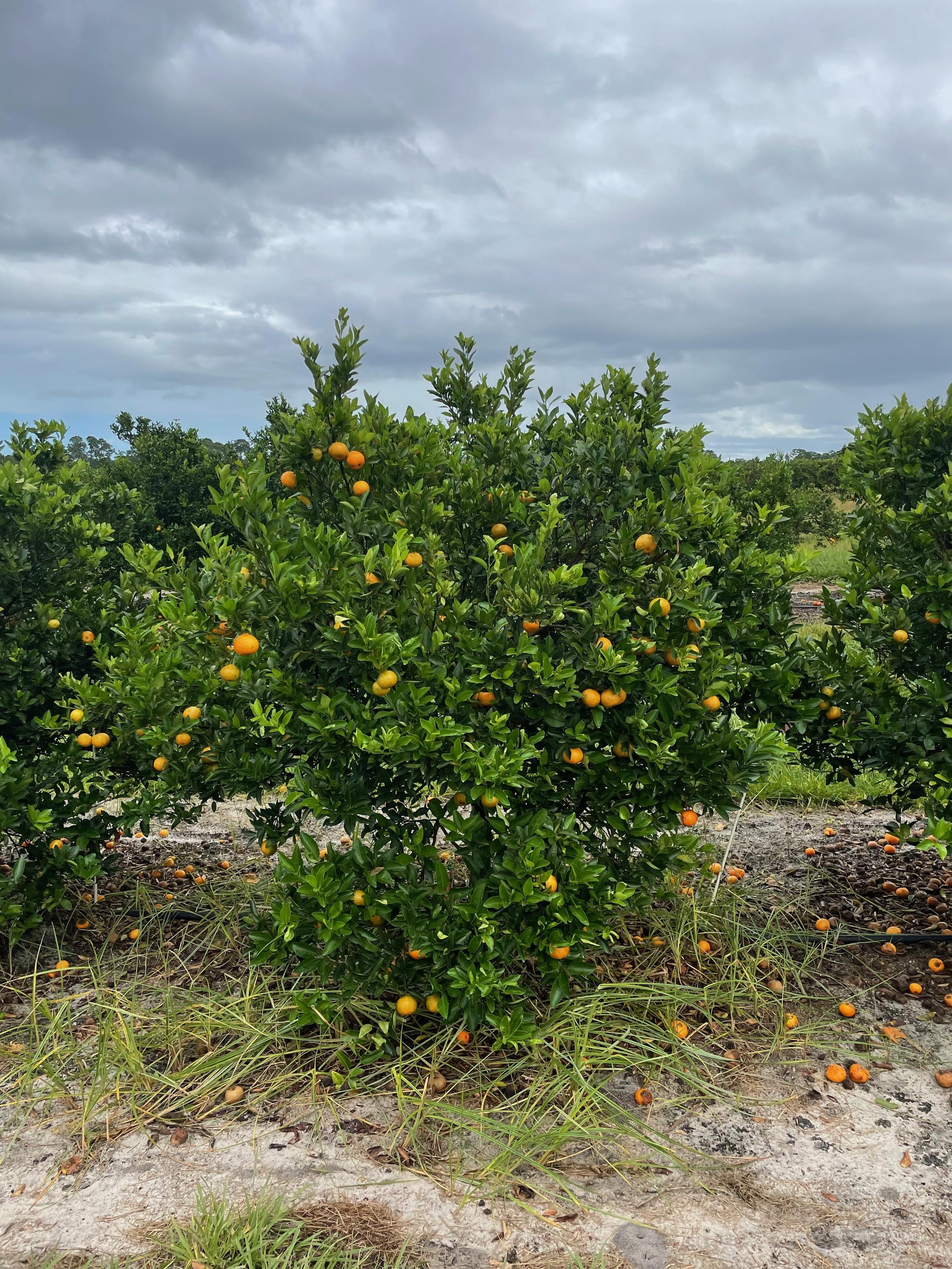fruit_on_ground: (205, 618, 236, 647), (233, 631, 261, 657), (633, 531, 660, 556), (600, 684, 628, 708), (481, 485, 511, 507), (467, 686, 492, 712), (698, 690, 724, 714), (560, 743, 586, 767), (611, 736, 636, 760), (375, 667, 400, 691), (394, 993, 419, 1017), (217, 661, 242, 685), (646, 595, 672, 618), (547, 938, 571, 961), (591, 634, 615, 657), (198, 743, 221, 766), (369, 677, 393, 699), (423, 991, 445, 1015), (328, 441, 352, 463), (476, 687, 500, 709), (513, 488, 538, 509), (537, 872, 560, 894), (663, 643, 685, 666), (922, 606, 946, 627), (362, 567, 385, 588), (344, 449, 367, 470), (680, 641, 702, 662), (637, 636, 659, 657), (180, 704, 203, 724), (684, 614, 707, 634), (278, 468, 299, 489), (581, 687, 602, 708), (90, 729, 111, 750), (520, 614, 542, 634), (403, 549, 425, 569), (678, 808, 700, 828), (151, 753, 171, 774), (258, 837, 278, 858), (494, 540, 516, 559), (350, 478, 372, 497), (233, 565, 253, 585), (818, 683, 838, 703), (452, 788, 472, 808), (479, 790, 500, 809), (489, 520, 510, 539), (79, 627, 99, 646), (174, 729, 194, 748), (350, 888, 368, 908), (67, 707, 87, 725), (824, 704, 844, 722), (75, 731, 95, 749), (306, 444, 324, 463), (47, 836, 65, 854), (891, 628, 910, 645), (46, 615, 63, 633), (814, 696, 832, 712), (368, 912, 385, 928)
fruit_on_tree: (666, 1017, 691, 1041), (221, 1083, 247, 1105), (425, 1071, 449, 1094), (632, 1085, 656, 1108), (848, 1062, 870, 1084), (169, 1125, 190, 1147), (825, 1062, 847, 1083), (933, 1068, 952, 1089), (406, 943, 426, 961), (927, 955, 946, 973), (838, 999, 857, 1017), (455, 1027, 473, 1045), (782, 1011, 800, 1029), (723, 1046, 741, 1063), (766, 976, 784, 993), (649, 933, 667, 949), (879, 940, 898, 955), (696, 938, 712, 955), (814, 916, 831, 932), (337, 833, 354, 848), (882, 830, 899, 844), (729, 866, 746, 880), (907, 980, 923, 994), (75, 916, 90, 930), (708, 860, 722, 875), (895, 884, 910, 898), (866, 919, 882, 932), (886, 923, 903, 935), (317, 846, 331, 860), (55, 958, 70, 971), (925, 893, 938, 907), (128, 926, 141, 940), (925, 913, 940, 925), (19, 837, 34, 849), (865, 837, 880, 849), (936, 901, 949, 914), (881, 879, 895, 891), (162, 856, 176, 868), (822, 825, 836, 837), (941, 992, 952, 1007), (180, 866, 193, 878), (219, 858, 232, 870), (884, 843, 898, 854), (81, 889, 94, 900), (149, 867, 162, 878), (157, 827, 170, 838), (804, 845, 817, 856), (726, 874, 739, 885), (94, 806, 106, 817), (105, 838, 117, 849), (44, 968, 56, 979), (196, 875, 208, 886), (173, 867, 185, 878), (929, 876, 941, 886), (95, 892, 107, 902), (943, 875, 952, 888), (115, 826, 126, 836), (184, 863, 195, 873), (163, 891, 174, 901), (278, 784, 288, 794), (217, 837, 226, 846), (134, 830, 144, 838)
